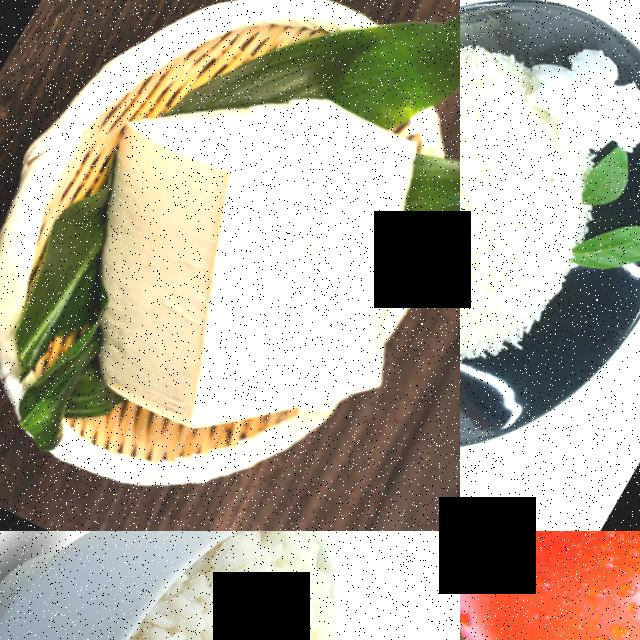tofu: (60, 48, 460, 495)
tomato: (460, 531, 640, 640)
white rice: (460, 37, 605, 416), (44, 531, 390, 640)
